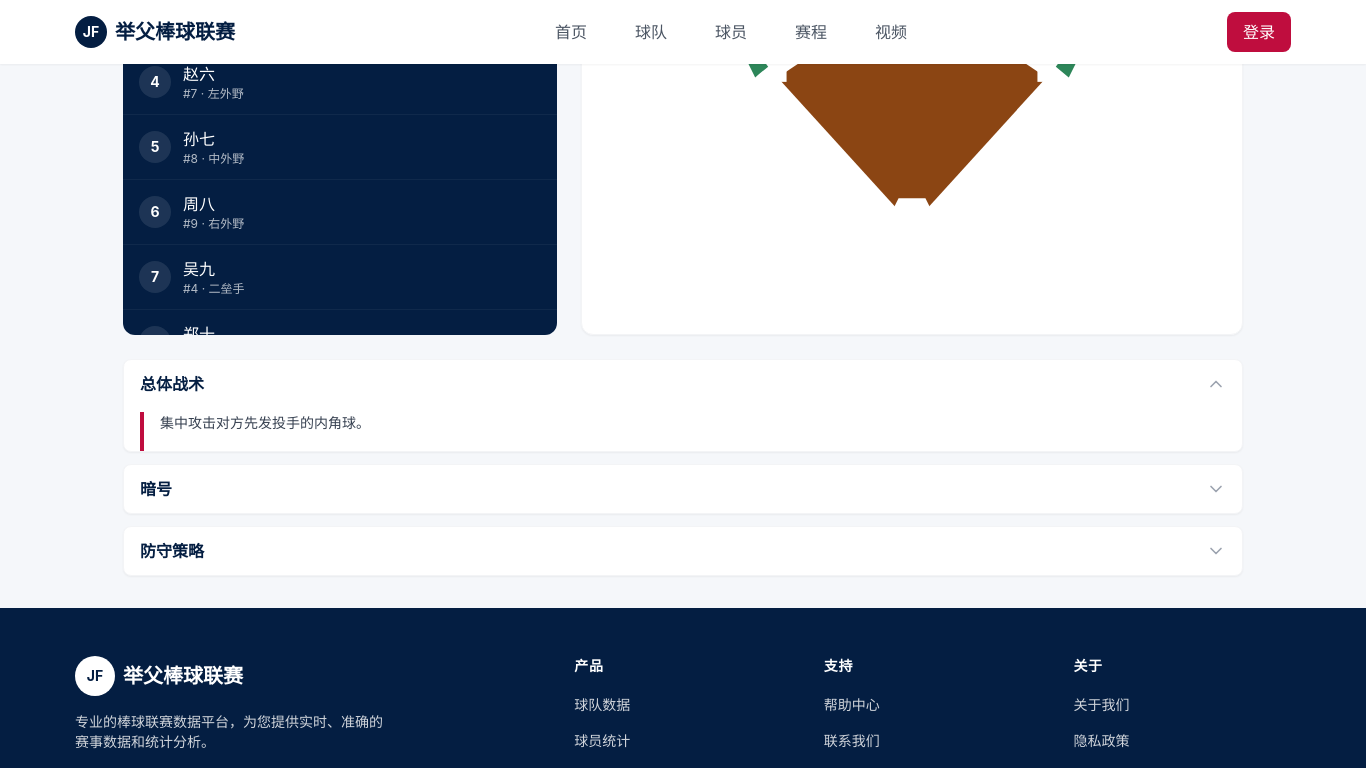
Scenario: TacticsBoardPage › toggles tactics sections on click
(page scrolled)
Click the button "总体战术": (172, 384) [124,360,1242,408]
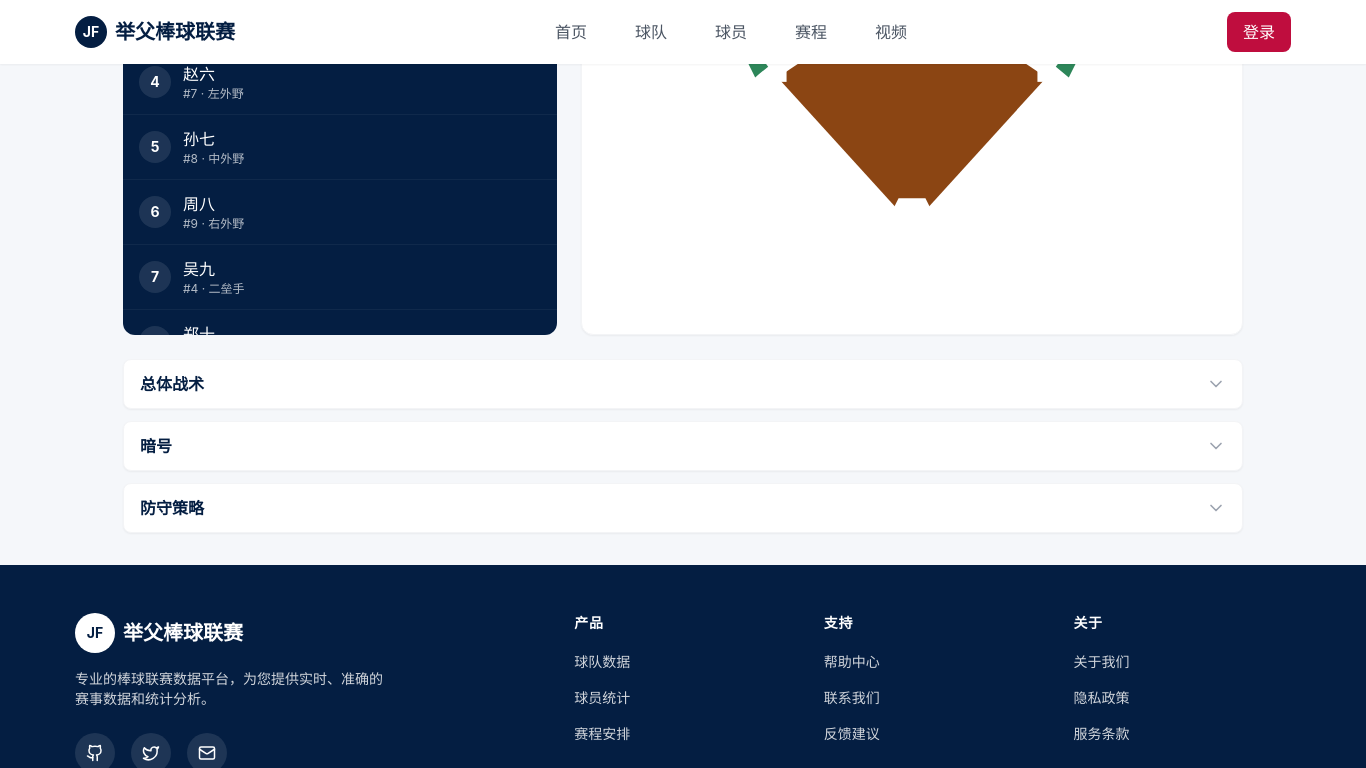
Check: the button "总体战术" is collapsed, box [124,360,1242,408]
